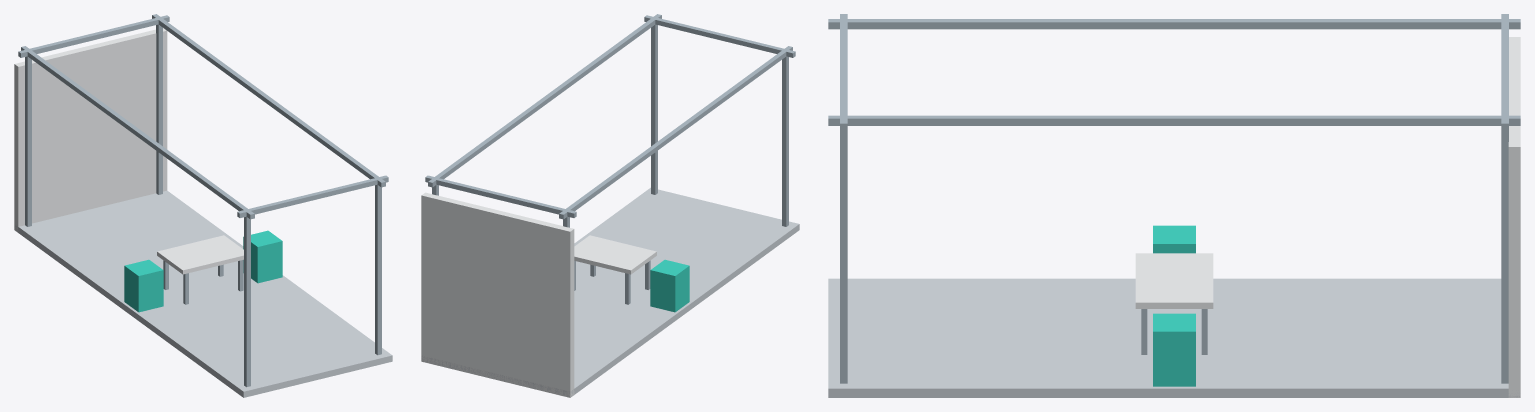
The picture shows the model from 3 angles, left to right: view 1: azimuth 30°, elevation 25°; view 2: azimuth 150°, elevation 25°; view 3: azimuth 270°, elevation 25°; orthographic projection. The views are drawn at different scales.
Visible parts, largest first — view 1: Exhibition Booth Concept; view 2: Exhibition Booth Concept; view 3: Exhibition Booth Concept.
Boxes of the visible parts, <box> form: Exhibition Booth Concept: <box>14,14,392,397</box>; Exhibition Booth Concept: <box>421,14,799,397</box>; Exhibition Booth Concept: <box>828,14,1520,397</box>.
Size of the model in its own units: 3 by 3.49 by 8.
